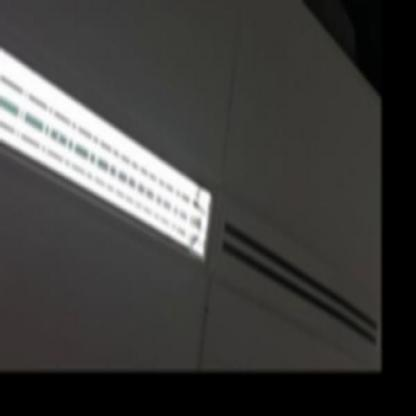light_on: (0, 13, 221, 284)
